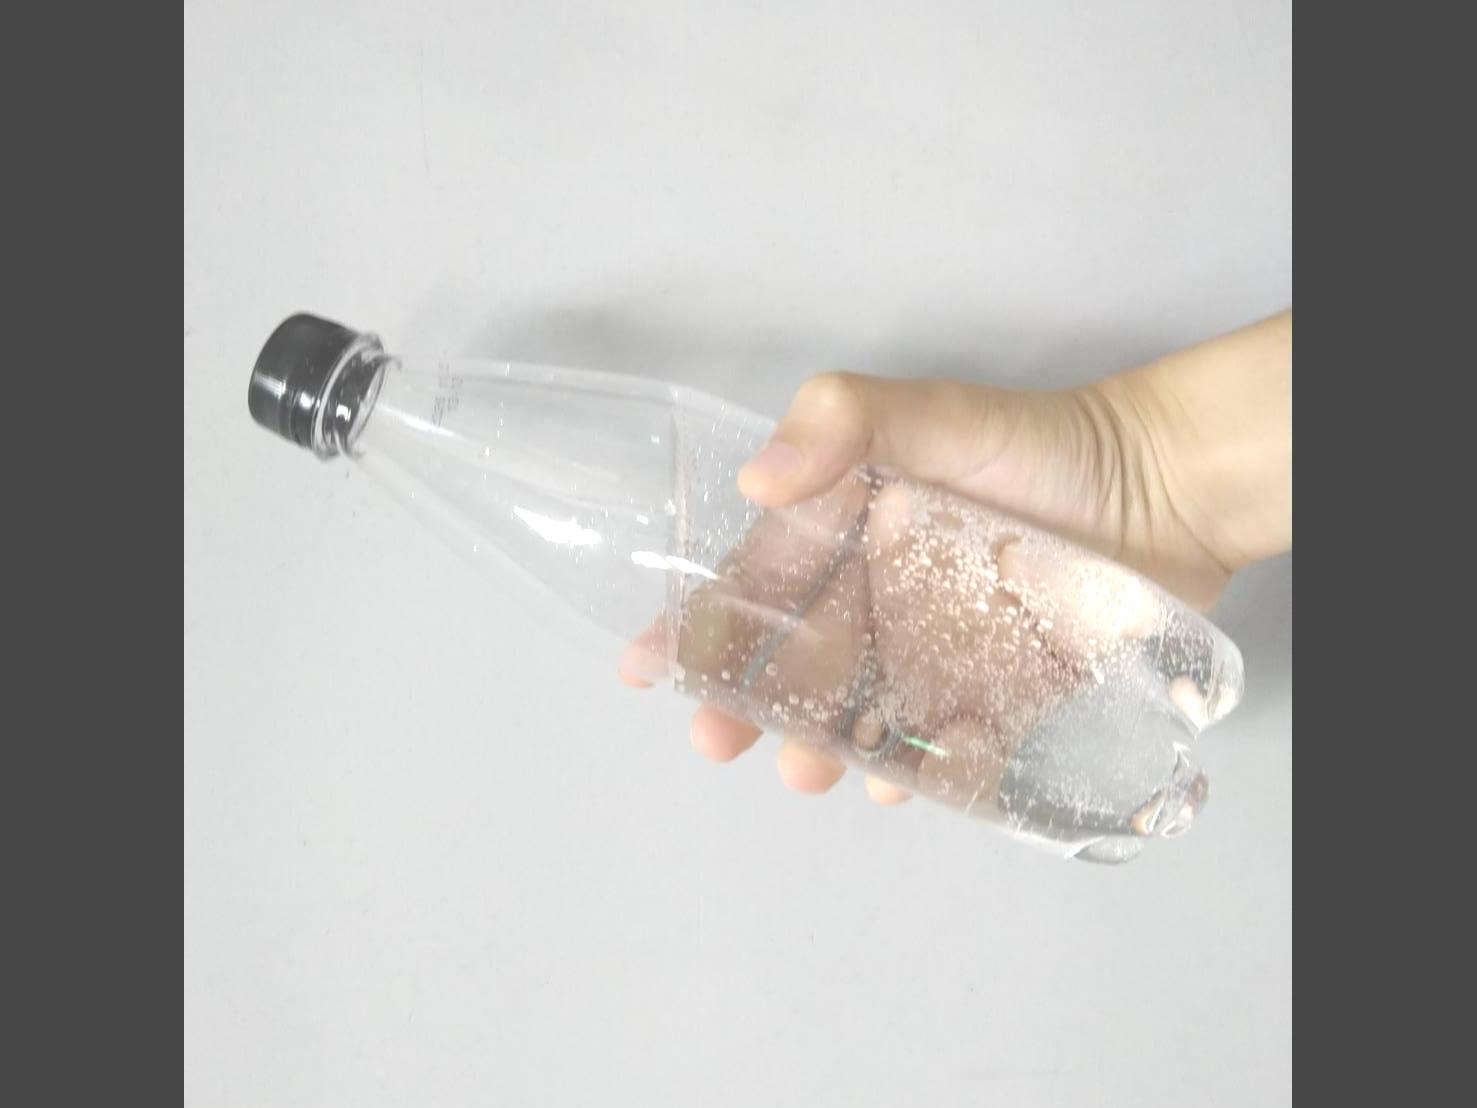bottle: (250, 305, 1247, 887)
